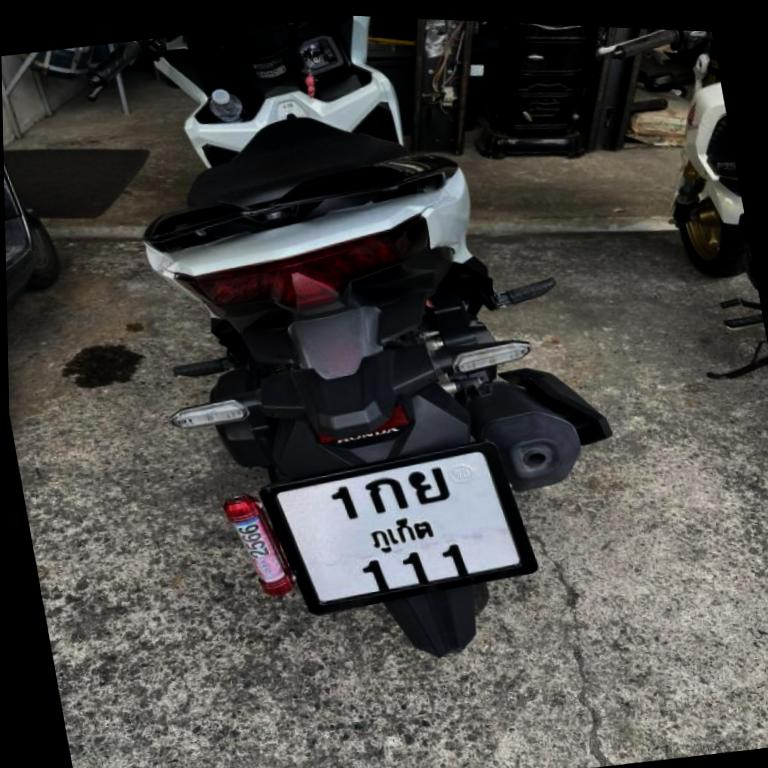license plate: (262, 444, 536, 613)
